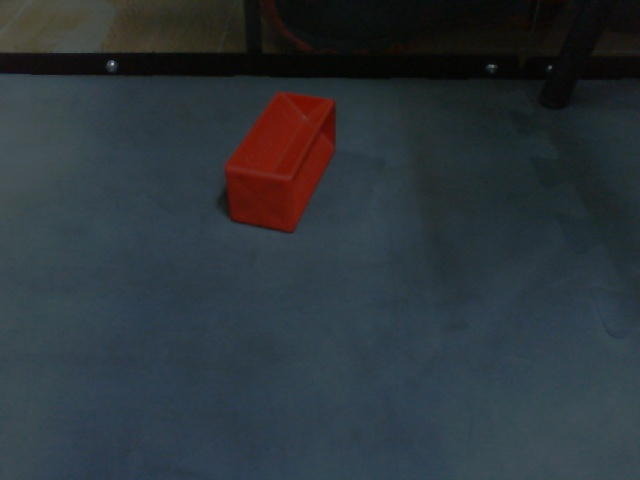RedSample: (221, 89, 339, 236)
